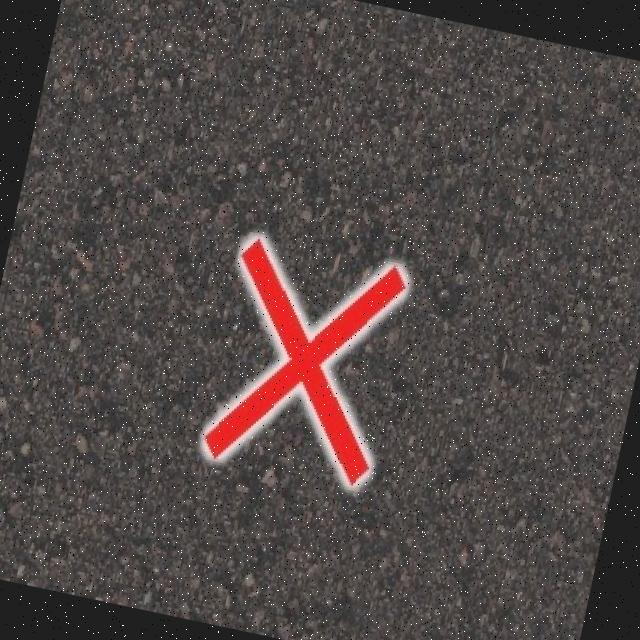x_marker: (200, 234, 410, 486)
